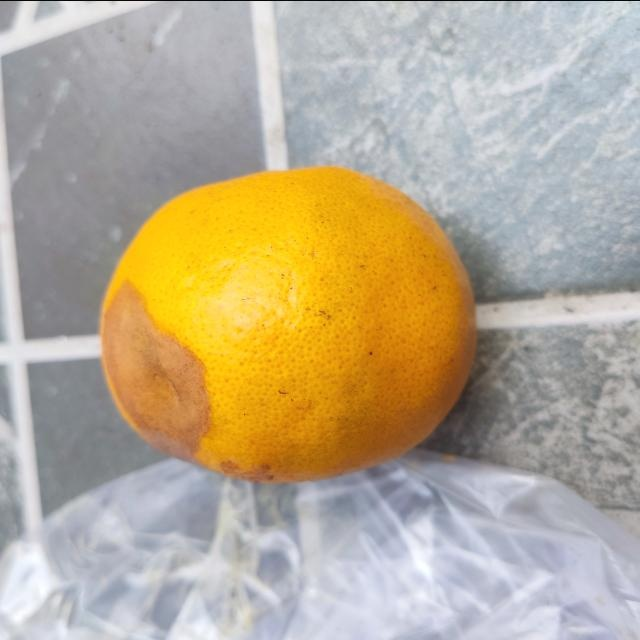agrume: (97, 160, 479, 485)
